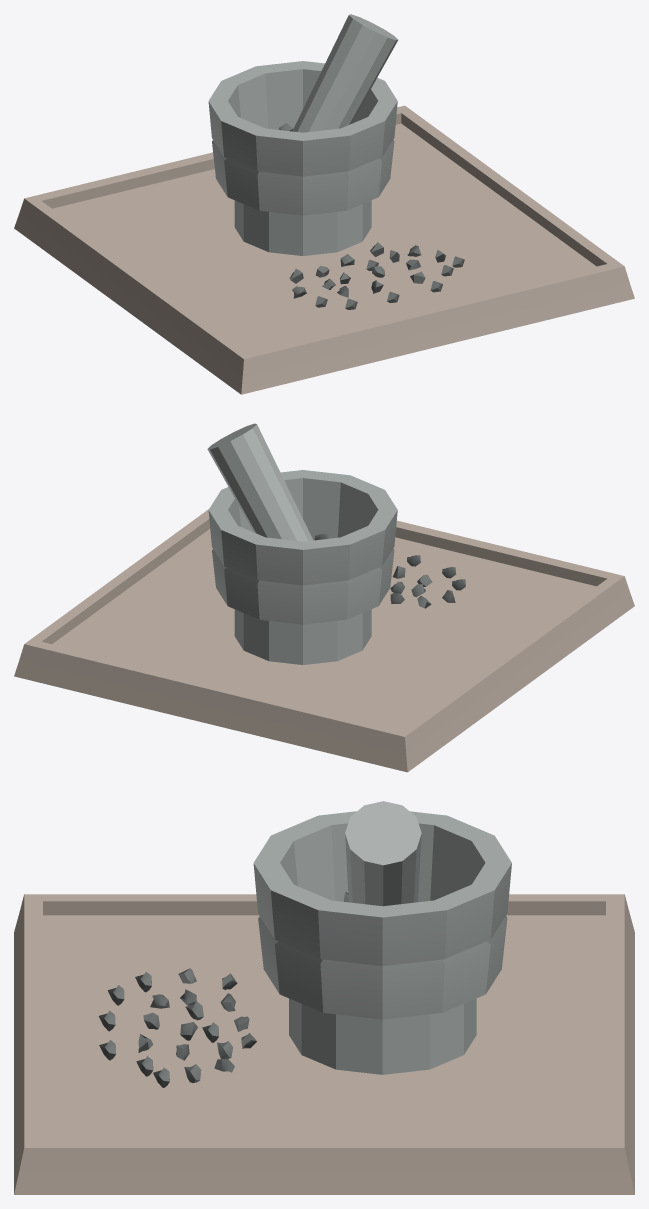
The model's file is Polvora.fbx.
3 renders of one model, top to bottom at view 1: azimuth 30°, elevation 25°; view 2: azimuth 150°, elevation 25°; view 3: azimuth 270°, elevation 25°, orthographic. The views are drawn at different scales.
Parts seen in each view (by area): view 1: Base, Jarron, Mortero; view 2: Base, Jarron, Mortero; view 3: Base, Jarron, Mortero.
Boxes of the visible parts, <box> form: Base: <box>14,105,634,394</box>; Jarron: <box>208,61,397,255</box>; Mortero: <box>292,14,398,132</box>; Base: <box>14,509,634,772</box>; Jarron: <box>208,470,397,664</box>; Mortero: <box>207,423,313,541</box>; Base: <box>14,894,634,1194</box>; Jarron: <box>253,811,511,1074</box>; Mortero: <box>345,801,421,906</box>.
Size of the model in its own units: 24.95 by 13.12 by 24.95.
